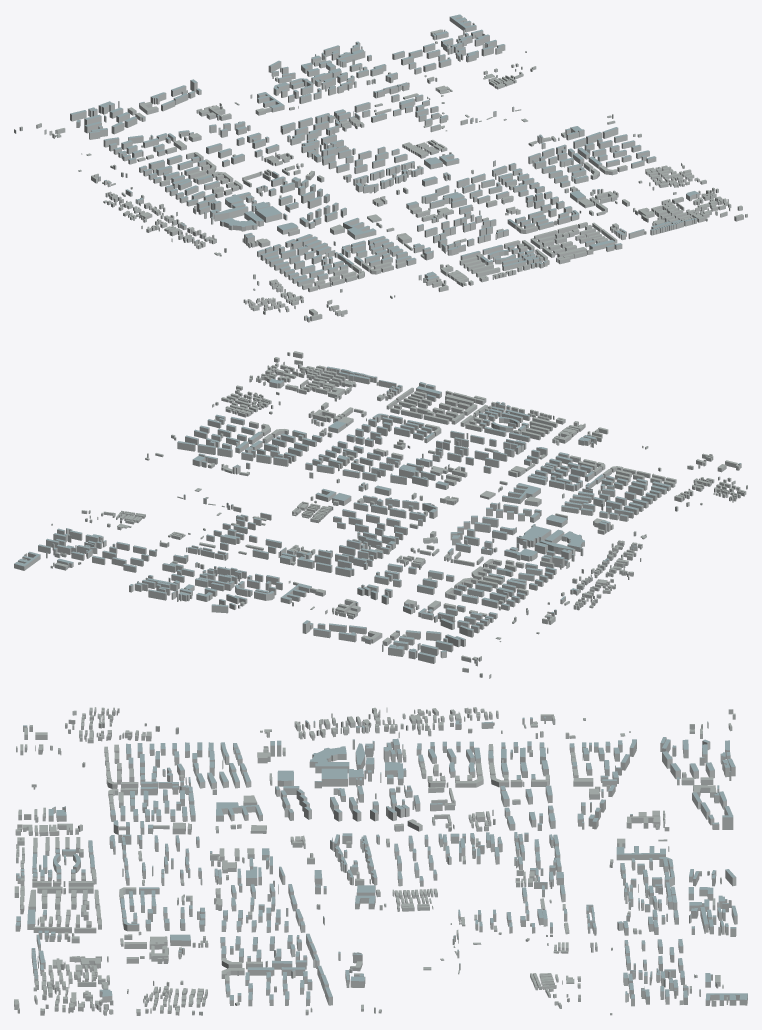
The model's file is far.glb.
The picture shows the model from 3 angles, top to bottom: view 1: azimuth 30°, elevation 25°; view 2: azimuth 150°, elevation 25°; view 3: azimuth 270°, elevation 25°; orthographic projection. The views are drawn at different scales.
Size of the model in its own units: 2105 by 40.47 by 2140.
